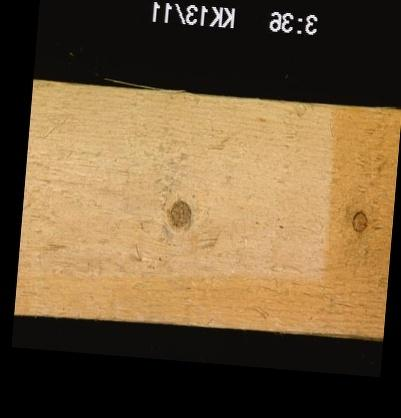dry_knot: (350, 209, 368, 233)
sound_knot: (167, 197, 191, 229)
